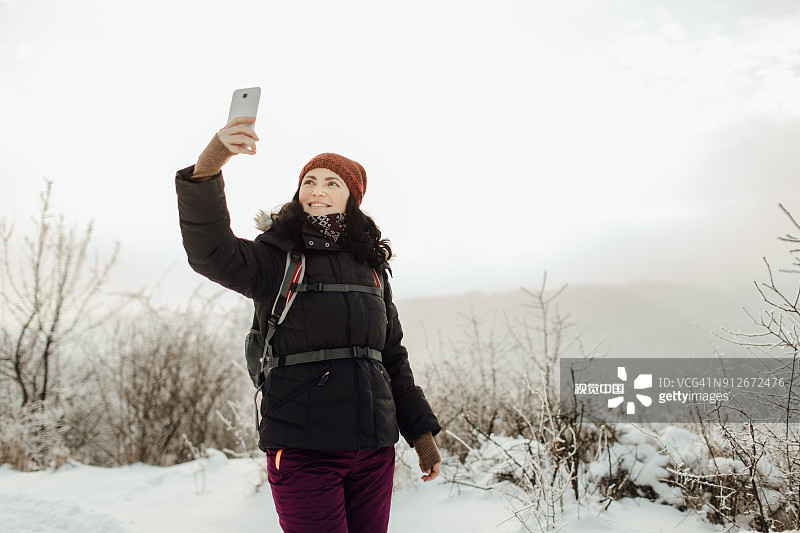taking photos: (183, 75, 271, 183)
